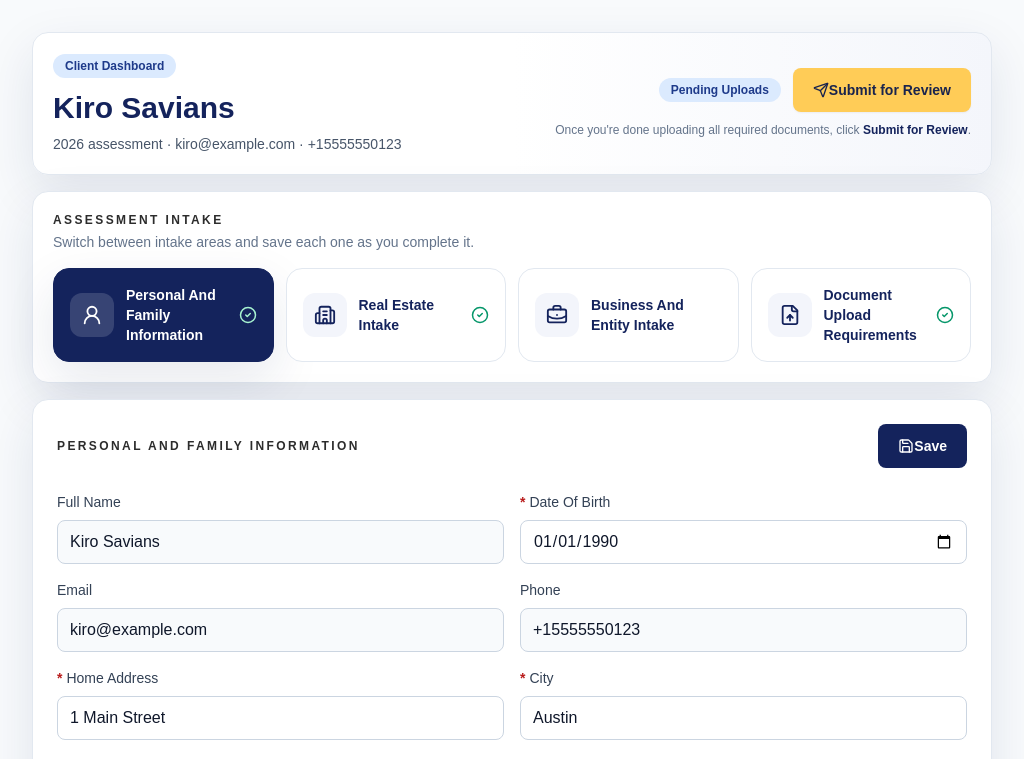
it: PortalDashboardClient › blocks Document Upload Requirements when business ownership is Yes and no entity exists
The image size is (1024, 759).
Expected: the heading "Kiro Savians" is shown, x1=53 y1=91 x2=235 y2=124
Click the button "Document Upload Requirements".
click(861, 315)  # box x1=750 y1=268 x2=971 y2=362
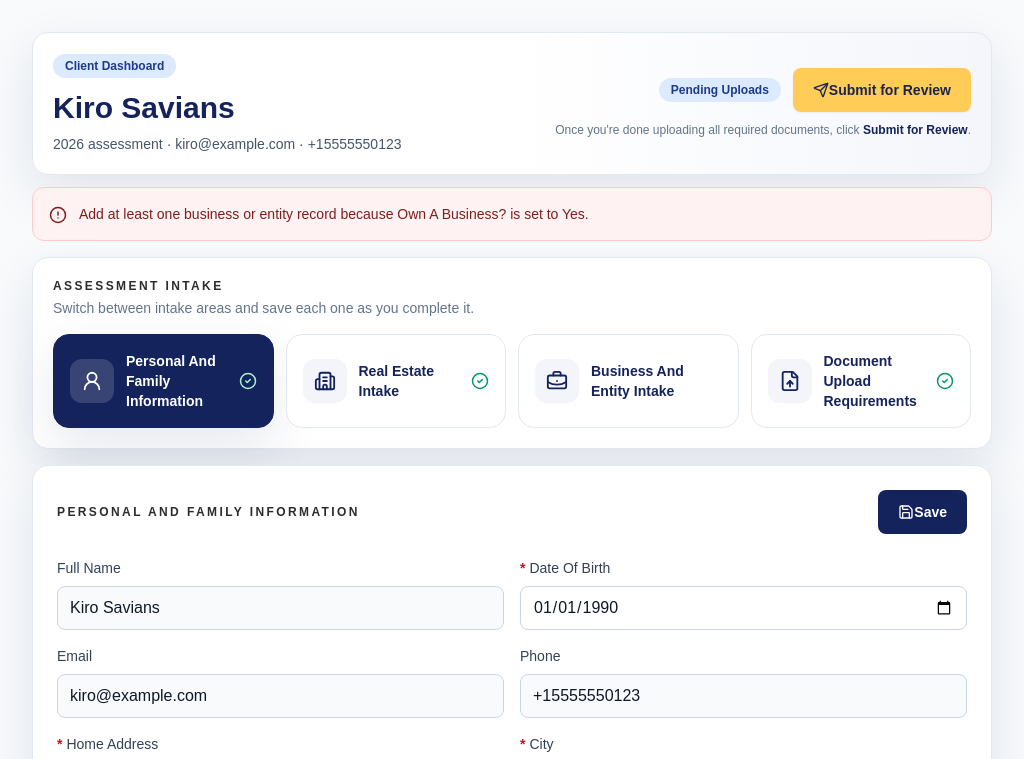
Now the text "Add at least one business or entity record because Own A Business? is set to Yes." is shown, box x1=79 y1=206 x2=589 y2=222
